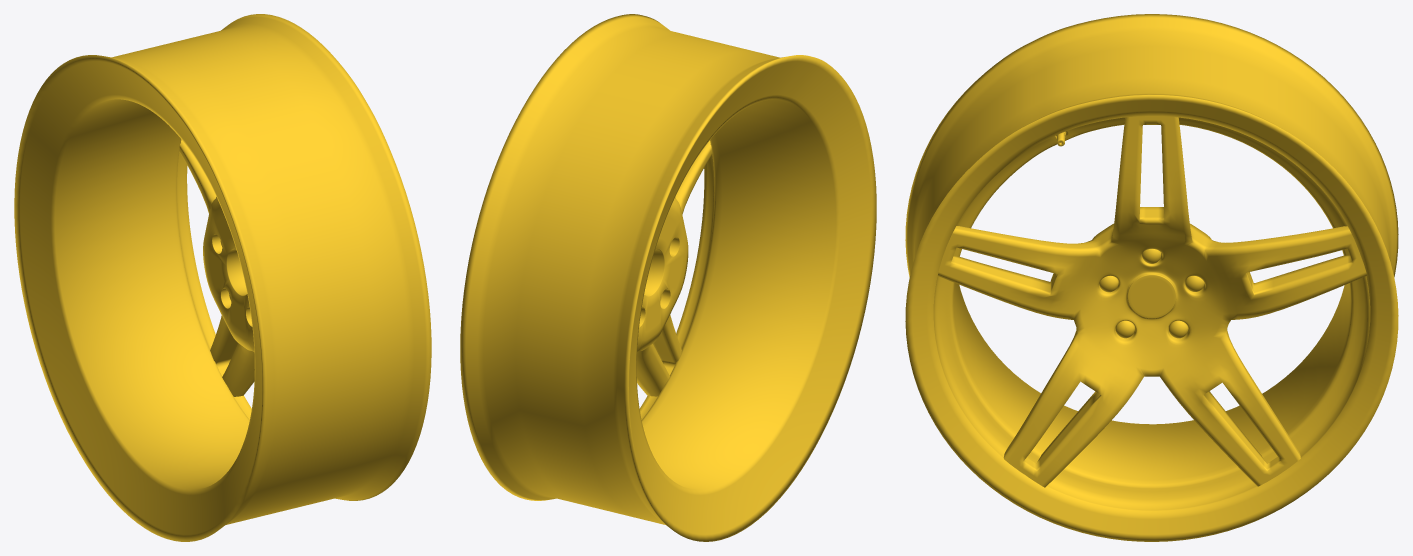
File: 3obgect1122.glb
The picture shows the model from 3 angles, left to right: view 1: azimuth 30°, elevation 25°; view 2: azimuth 150°, elevation 25°; view 3: azimuth 270°, elevation 25°; orthographic projection.
Visible parts, largest first — view 1: Object22; view 2: Object22; view 3: Object22.
Part boxes in pixels (bbox=[...]): Object22: bbox=[14, 14, 431, 541]; Object22: bbox=[460, 14, 876, 541]; Object22: bbox=[905, 14, 1398, 541].
Bounding box in the file's own units: 0.3009 × 0.7724 × 0.7724.
